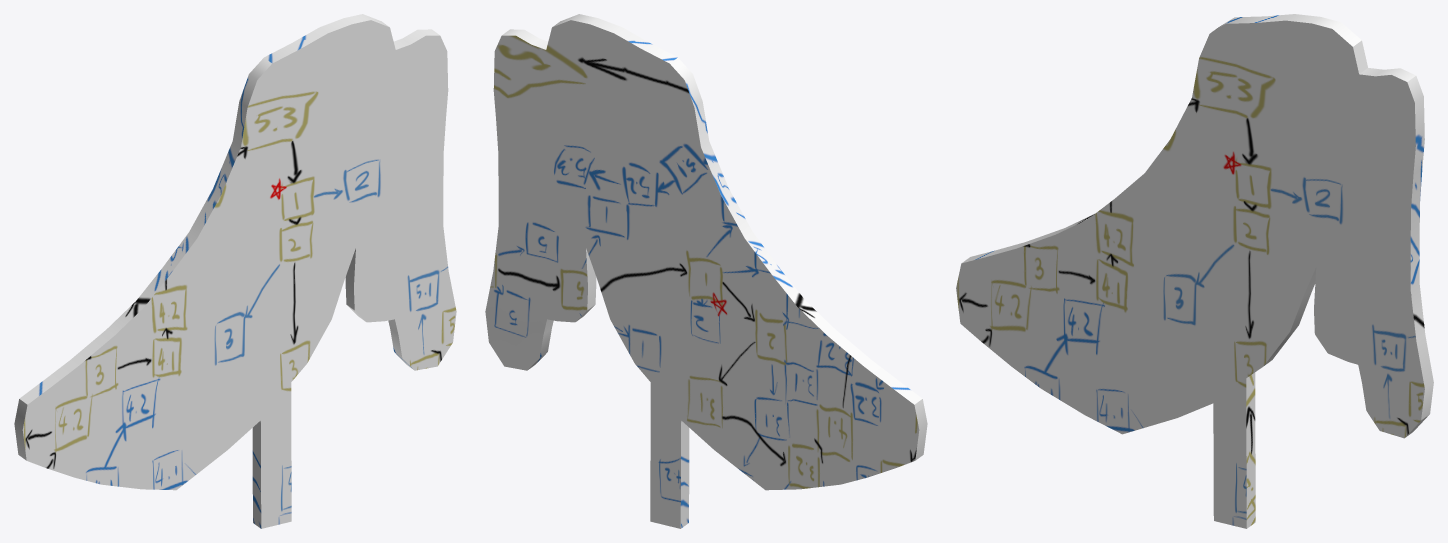
Rendered from mhy_slide.fbx.
3 renders of one model, left to right at view 1: azimuth 30°, elevation 25°; view 2: azimuth 150°, elevation 25°; view 3: azimuth 330°, elevation 25°, orthographic. The views are drawn at different scales.
Parts seen in each view (by area): view 1: slide; view 2: slide; view 3: slide.
Boxes of the visible parts, box(x1,y1,x2,y2) form: slide: box(14, 14, 456, 528); slide: box(485, 14, 927, 528); slide: box(956, 14, 1433, 528).
Size of the model in its own units: 151 by 160 by 5.
